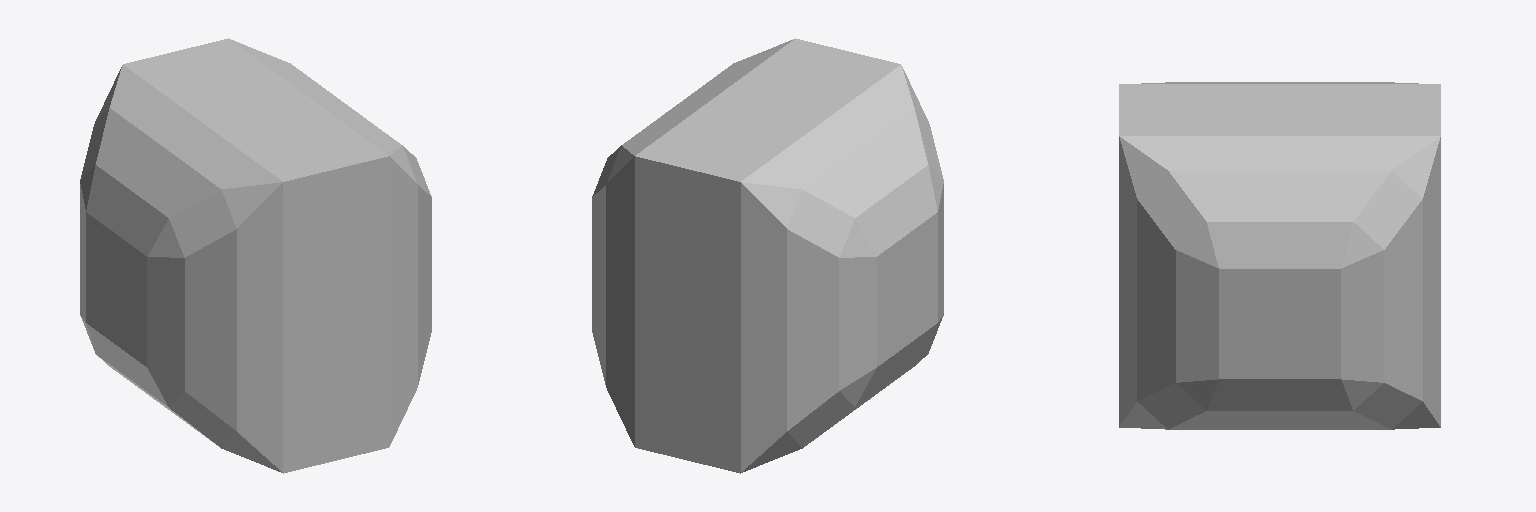
Rendered from snake_body.obj.
3 renders of one model, left to right at view 1: azimuth 30°, elevation 25°; view 2: azimuth 150°, elevation 25°; view 3: azimuth 270°, elevation 25°, orthographic.
Visible parts, largest first — view 1: Cube; view 2: Cube; view 3: Cube.
Part boxes in pixels (x1,y1,x2,y2): Cube: (80,38,431,473); Cube: (592,38,943,473); Cube: (1119,82,1440,429).
Size of the model in its own units: 2 by 2 by 2.